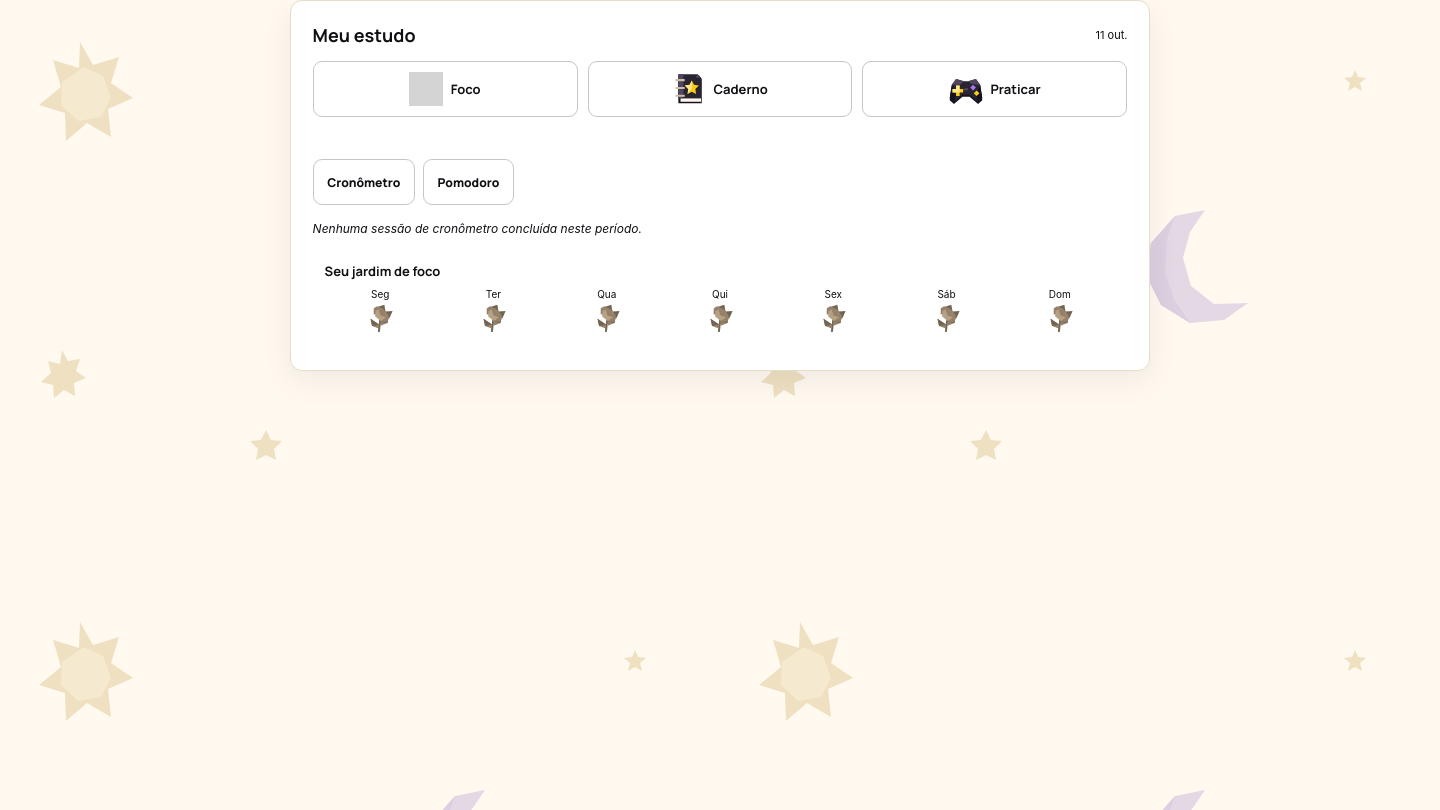
Test: filters charts through only islands practiced in the selected dates
The width and height of the screenshot is (1440, 810).
Step 1. Click the button "Praticar" → {"x": 995, "y": 89}, box x1=862 y1=61 x2=1127 y2=117
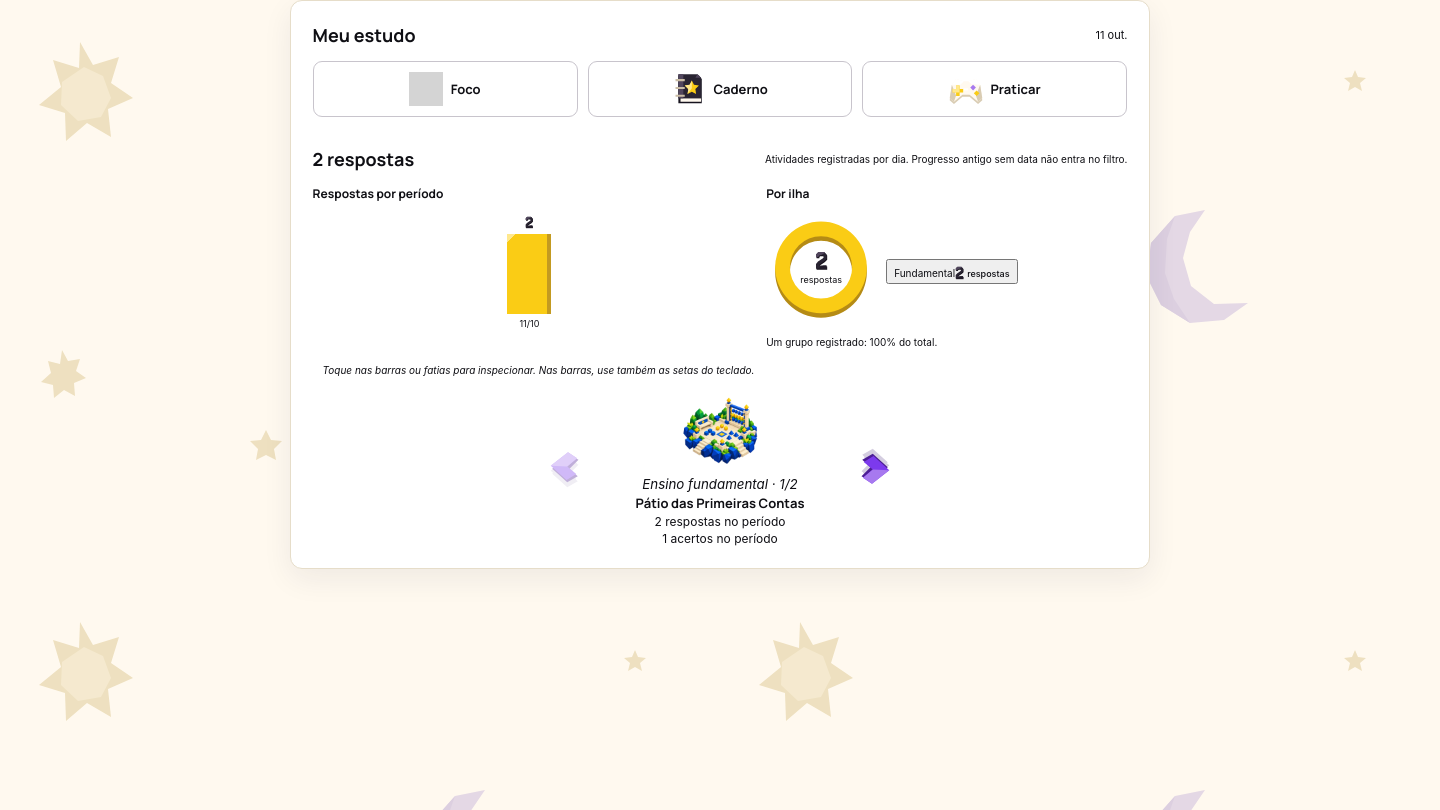
Result: the text "2 respostas" is shown at x1=313 y1=147 x2=414 y2=171
Step 2. Click the button named "Próxima ilha" → {"x": 875, "y": 468}, box x1=853 y1=446 x2=897 y2=490
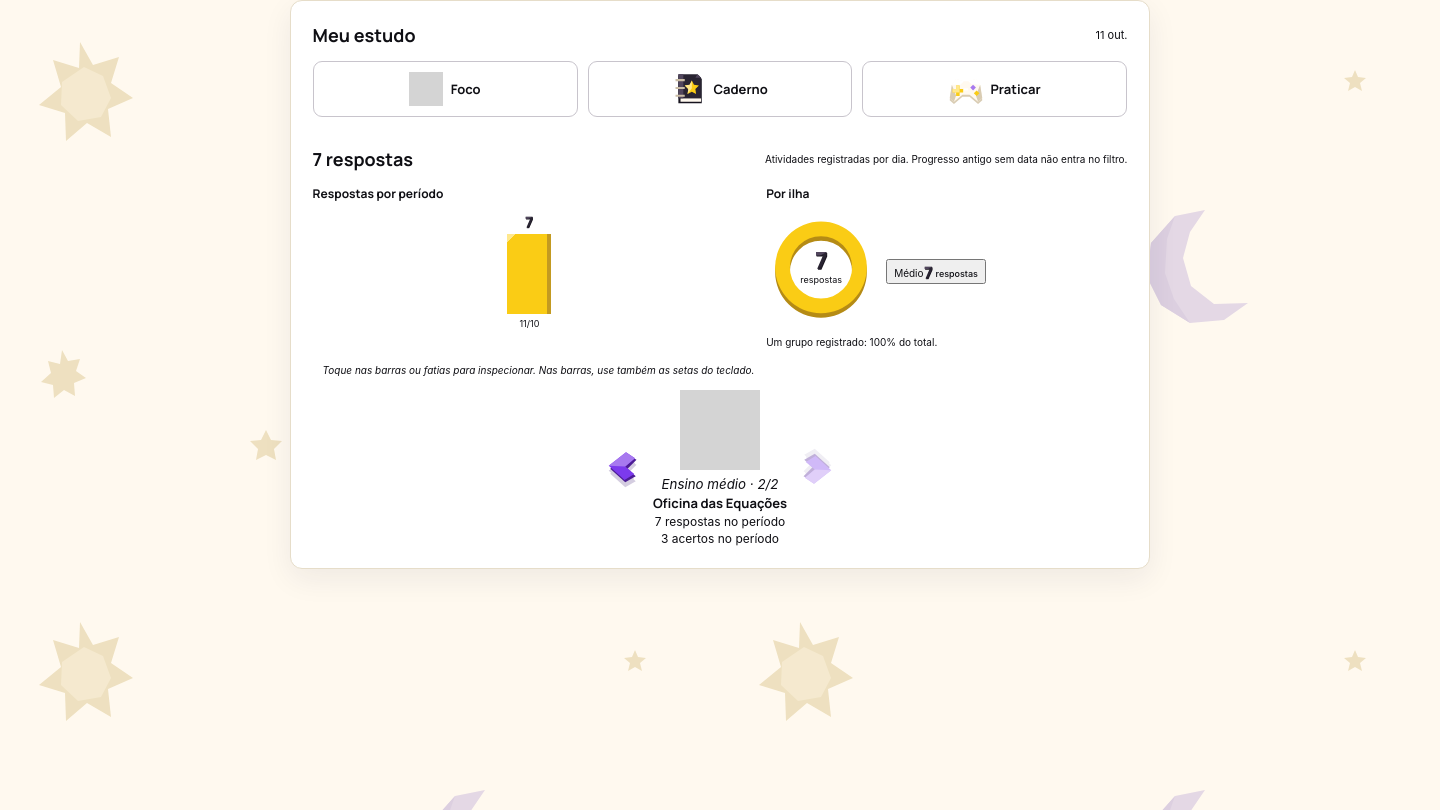
Result: the text "7 respostas" is shown at x1=313 y1=147 x2=413 y2=171
Result: the button named "Próxima ilha" is disabled at x1=795 y1=446 x2=839 y2=490
